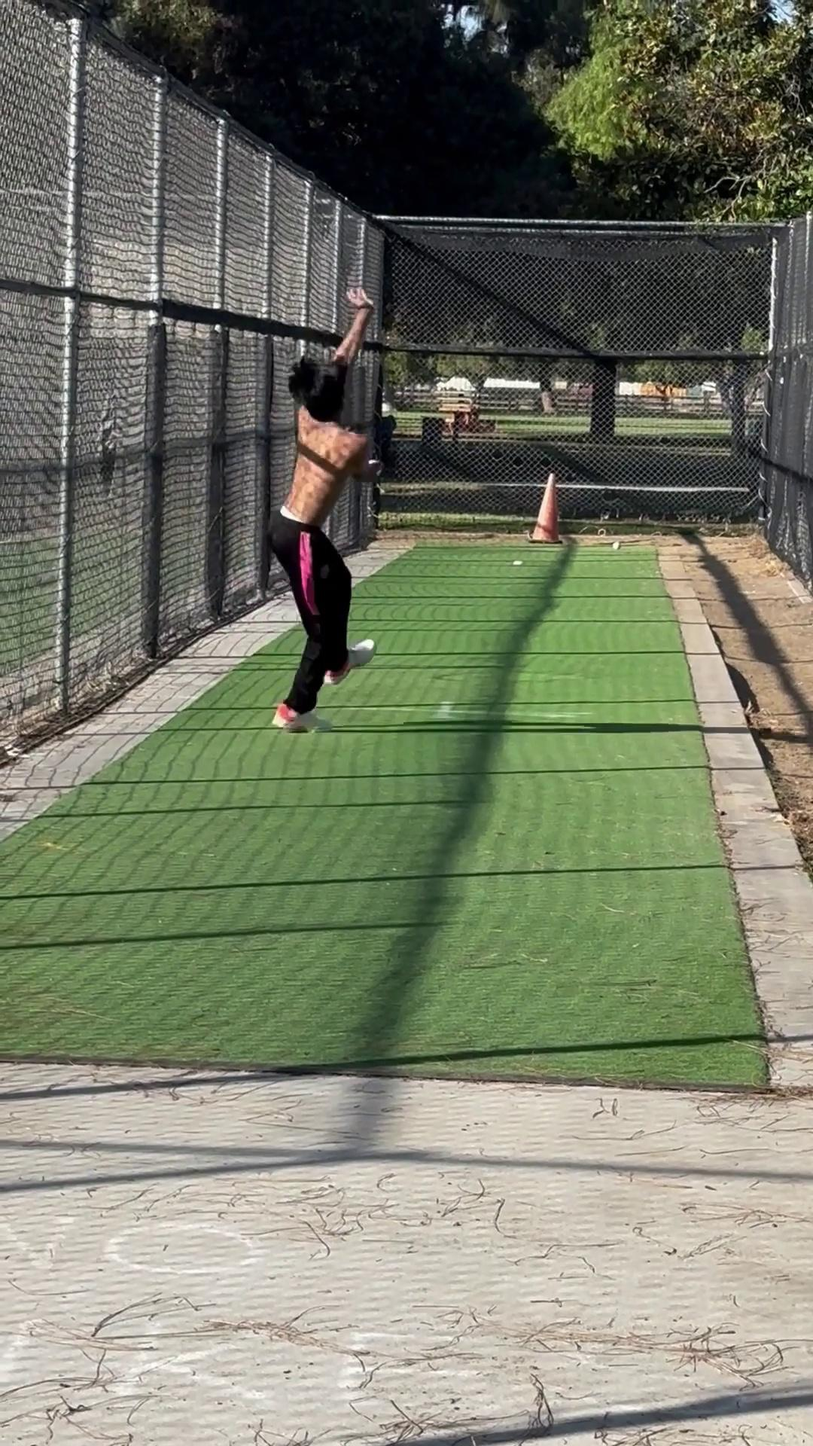ball: (364, 453, 388, 480)
